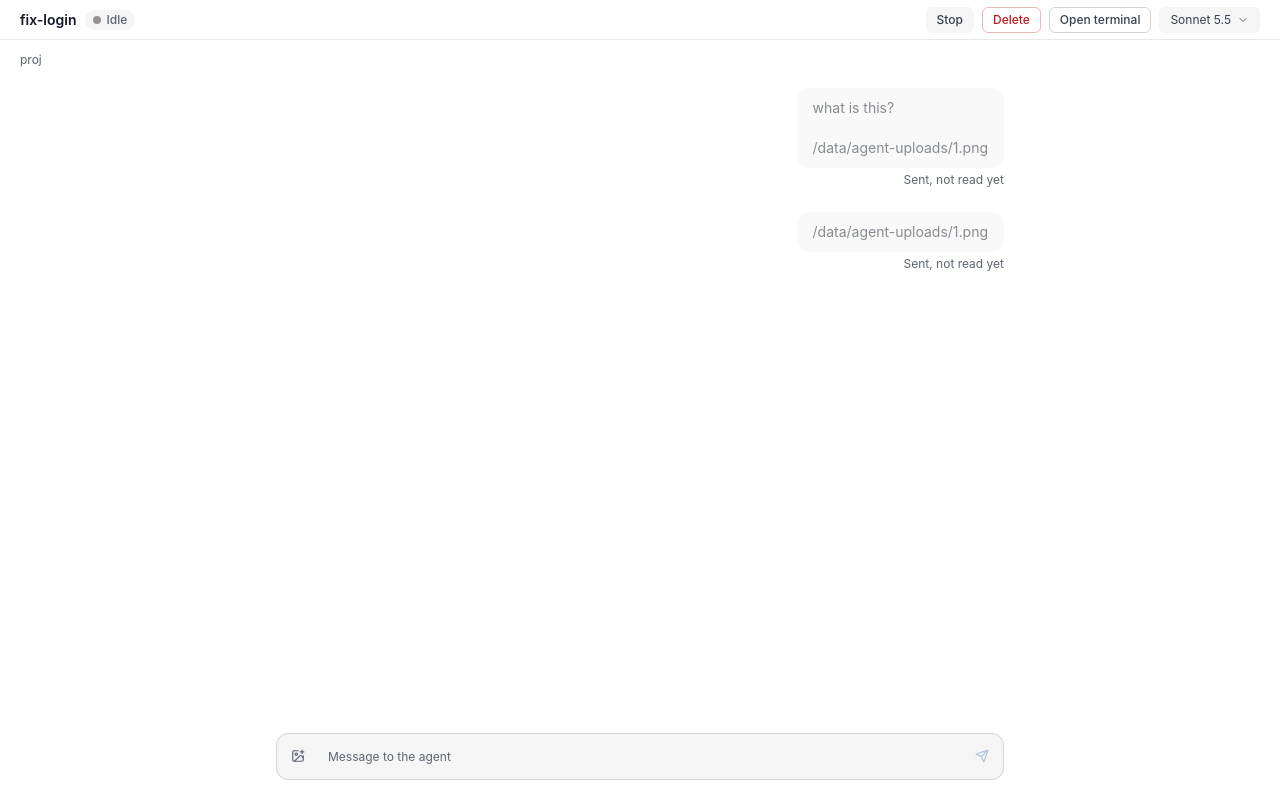
Scenario: attachments › a dropped non-image file is pasted into the draft as its path
The image size is (1280, 800).
Type "read" into the text box with placeholder "Message to the agent" at (640, 756), box 317,742 -> 963,771
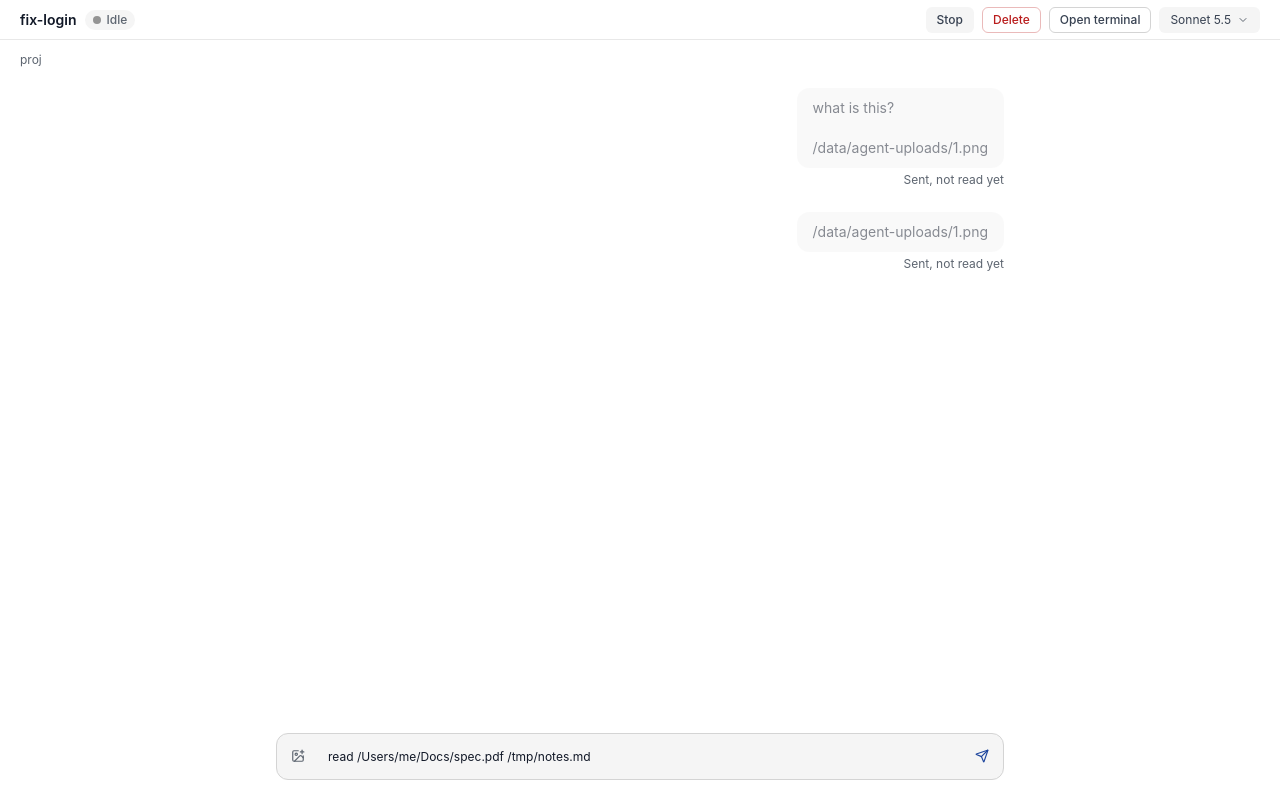
Expected: the text box with placeholder "Message to the agent" holds "read /Users/me/Docs/spec.pdf /tmp/notes.md", 317,742 -> 963,771
